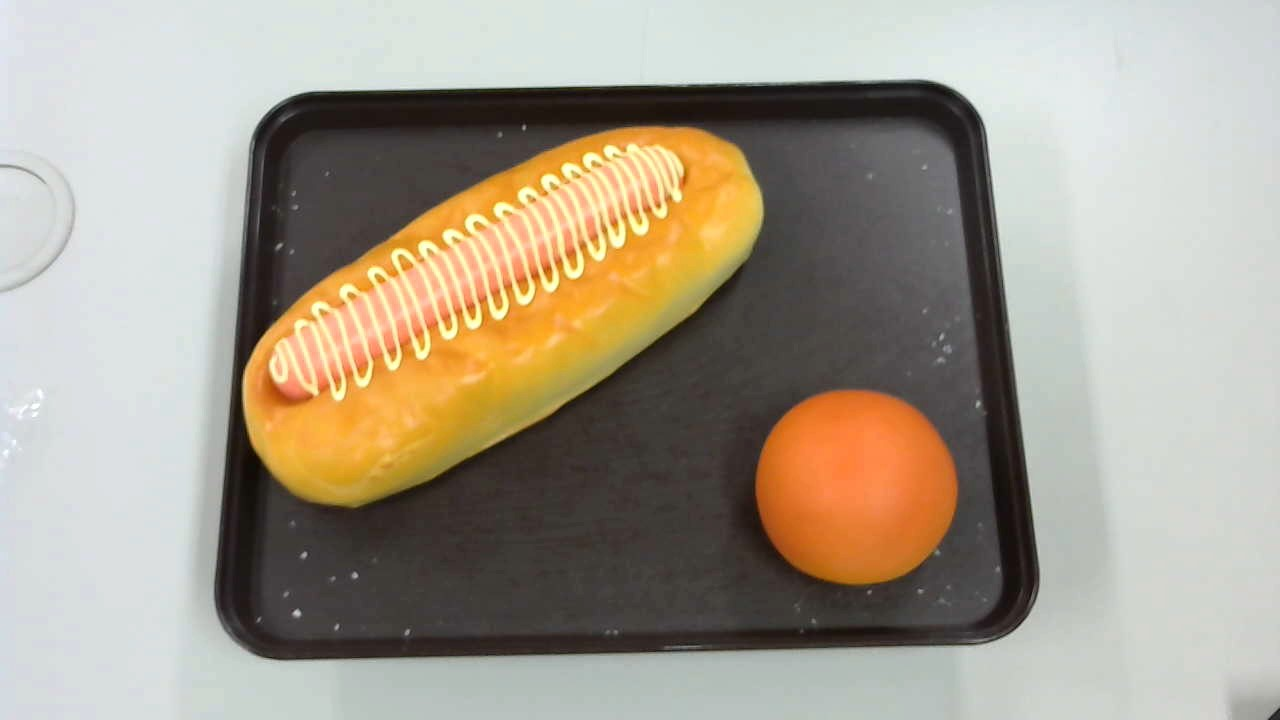bun: (755, 387, 958, 586)
hot dog: (242, 124, 764, 507)
